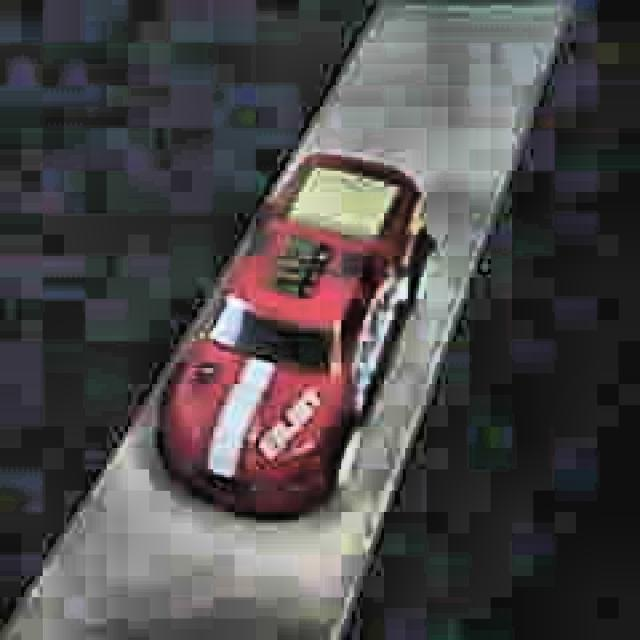car: (148, 147, 437, 527)
